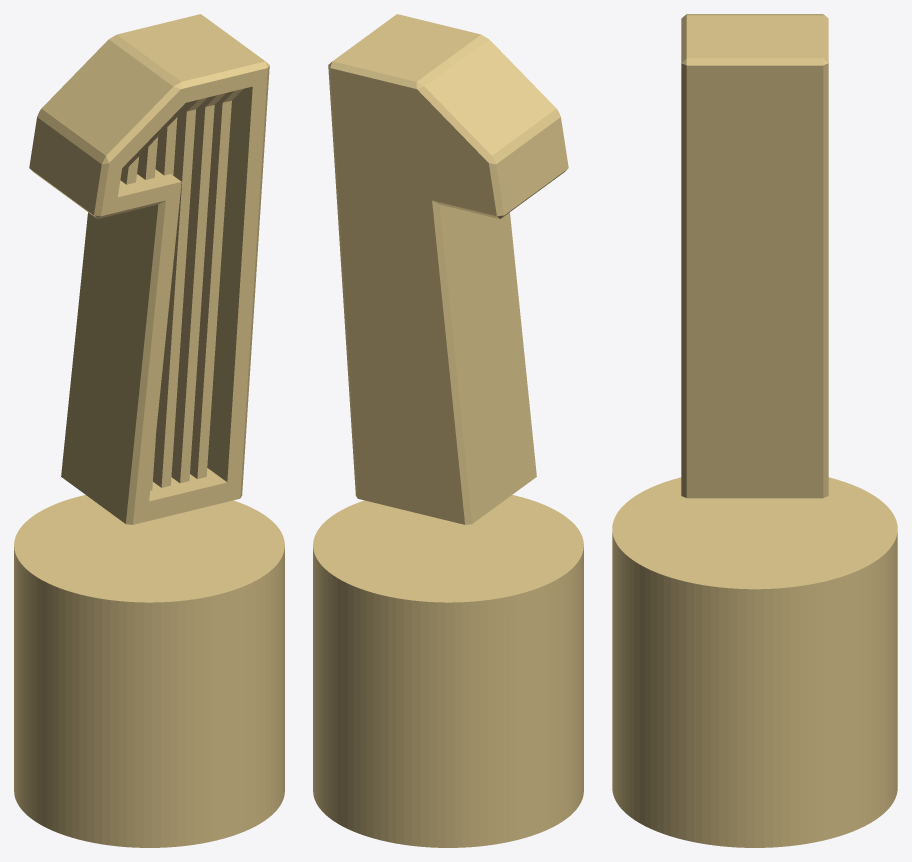
The model's file is First Place.fbx.
3 views of the same model, side by side, from view 1: azimuth 30°, elevation 25°; view 2: azimuth 150°, elevation 25°; view 3: azimuth 270°, elevation 25° (orthographic). The views are drawn at different scales.
Visible parts, largest first — view 1: Origin; view 2: Origin; view 3: Origin.
Boxes of the visible parts, box(x1,y1,x2,y2) form: Origin: box(14, 14, 284, 847); Origin: box(313, 14, 583, 847); Origin: box(612, 14, 897, 847).
Bounding box in the file's own units: 215 × 641 × 215.
